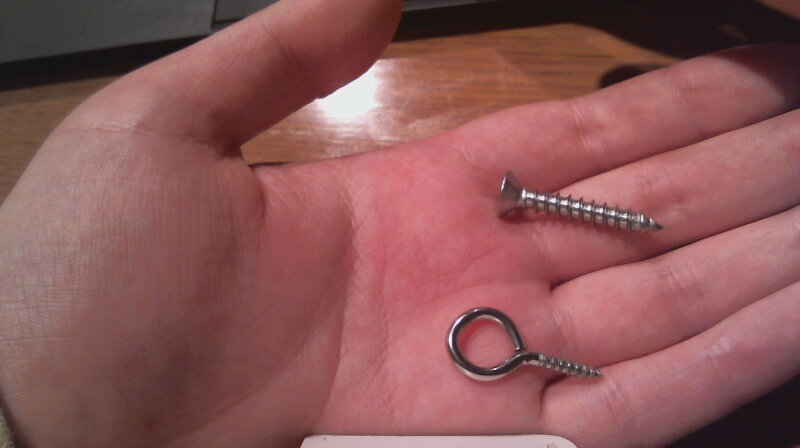O001: (442, 302, 610, 385)
S001: (491, 167, 670, 234)
